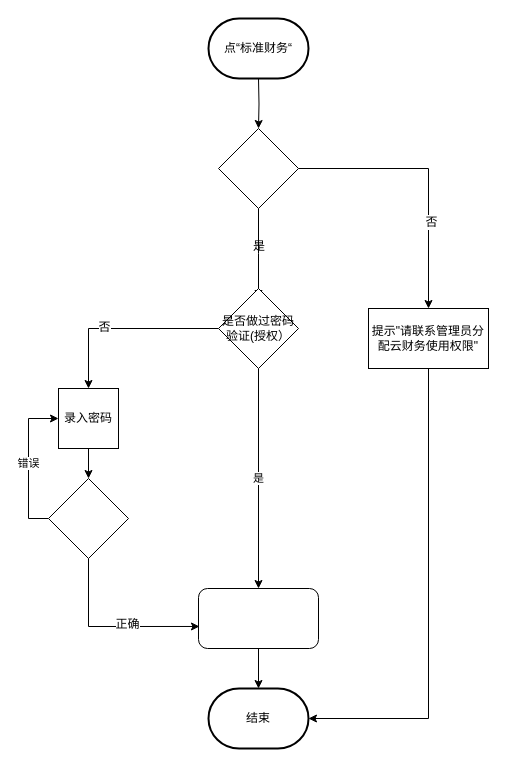
Some shapes in this 506 by 766 pixel diagram are drawn without their labels. The box of each missing label's shape, as (x1, y1, x2, y2) in pixels:
是否在云财务中分配过权限: (218, 128, 298, 208)
登录云财务成功: (198, 588, 318, 648)
验证密码: (48, 478, 128, 558)
